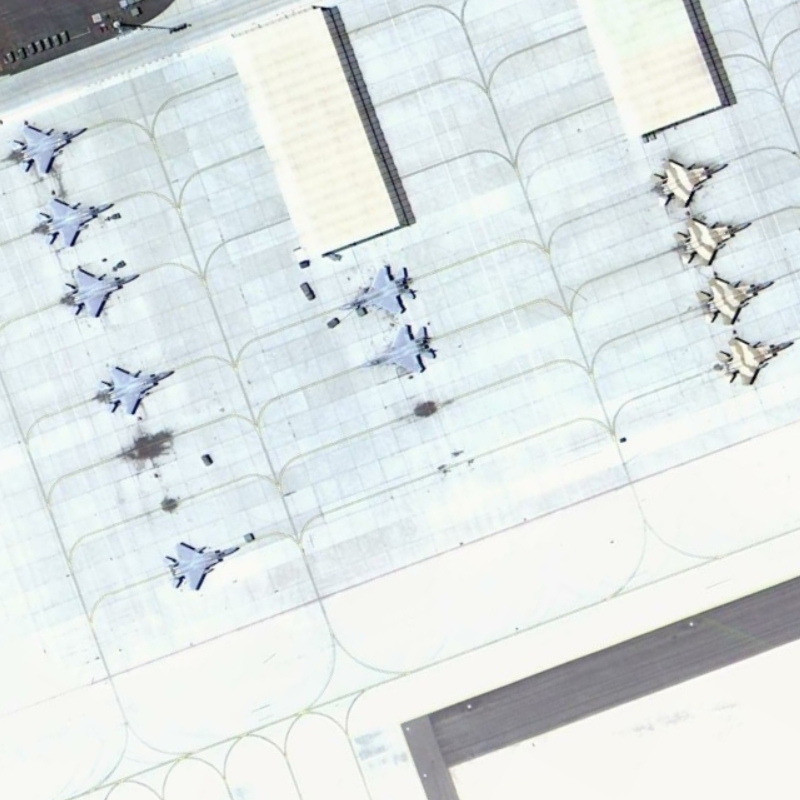A13: (642, 146, 734, 221), (337, 252, 421, 325), (706, 326, 796, 393), (686, 269, 782, 330), (59, 257, 147, 323), (349, 316, 439, 380), (93, 354, 179, 420), (32, 187, 115, 252), (670, 211, 757, 272), (159, 532, 243, 595), (14, 113, 90, 180)
